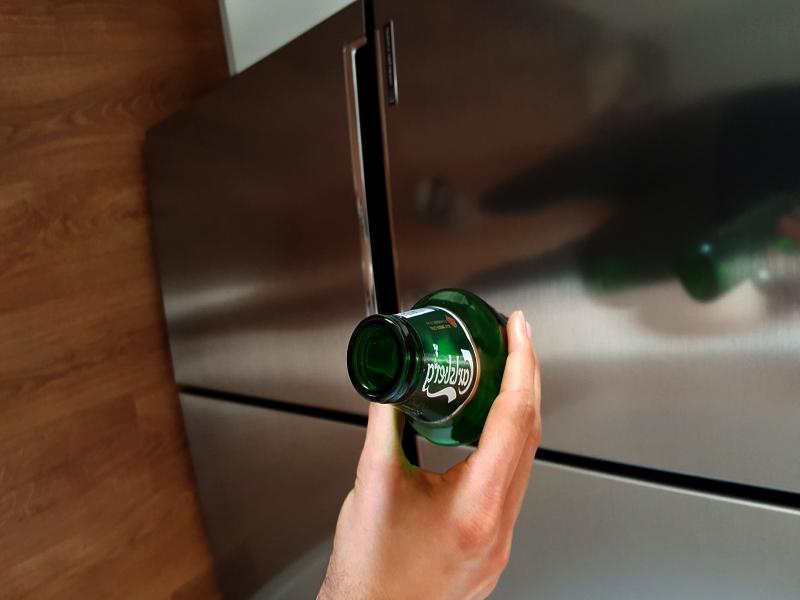Beer: (346, 289, 508, 441)
